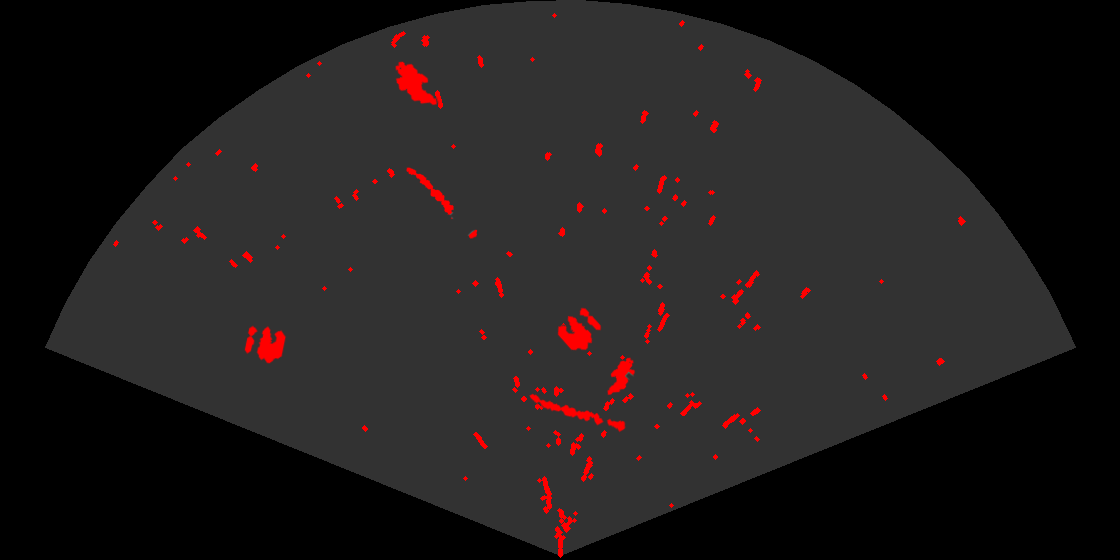AUV: (394, 60, 439, 107), (605, 356, 637, 397)
ball: (556, 306, 603, 352), (243, 324, 288, 365)
chain: (405, 166, 479, 240), (528, 392, 628, 434)
